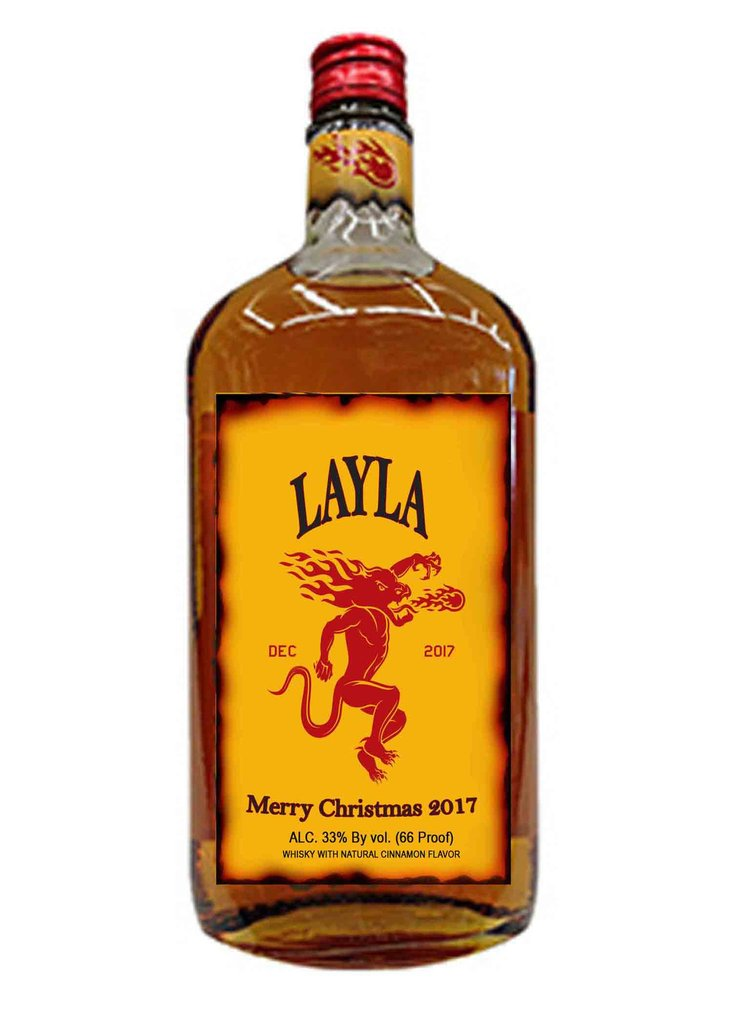bottle: (182, 27, 546, 975)
